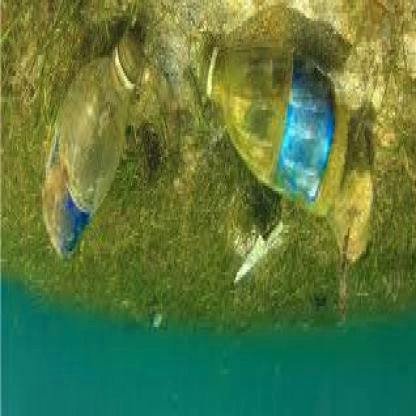pbottle: (184, 26, 350, 222), (40, 26, 142, 257)
